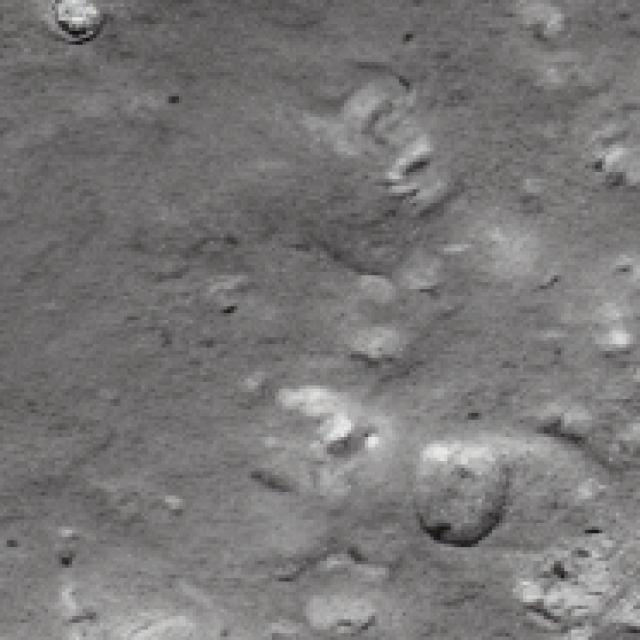Crater: (523, 402, 640, 640)
